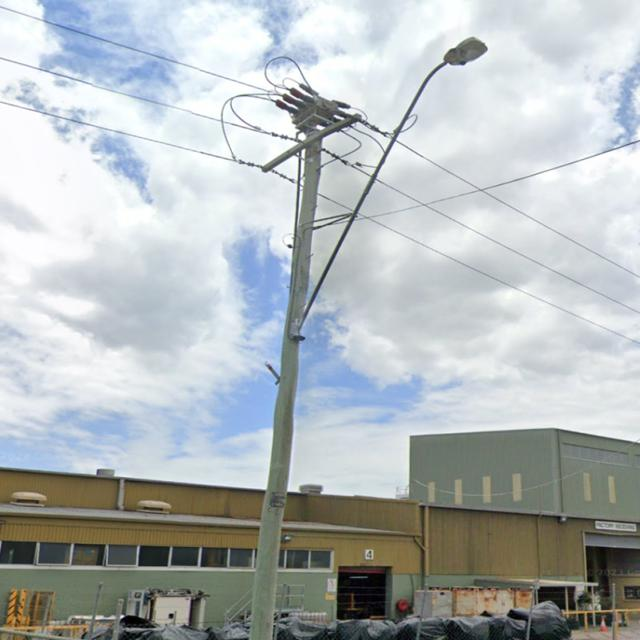HV-switch: (272, 81, 352, 135)
HV-transmission: (238, 113, 388, 183)
crossarm: (261, 113, 362, 174)
streetlight: (296, 34, 490, 334)
timber-pole: (248, 128, 323, 639)
